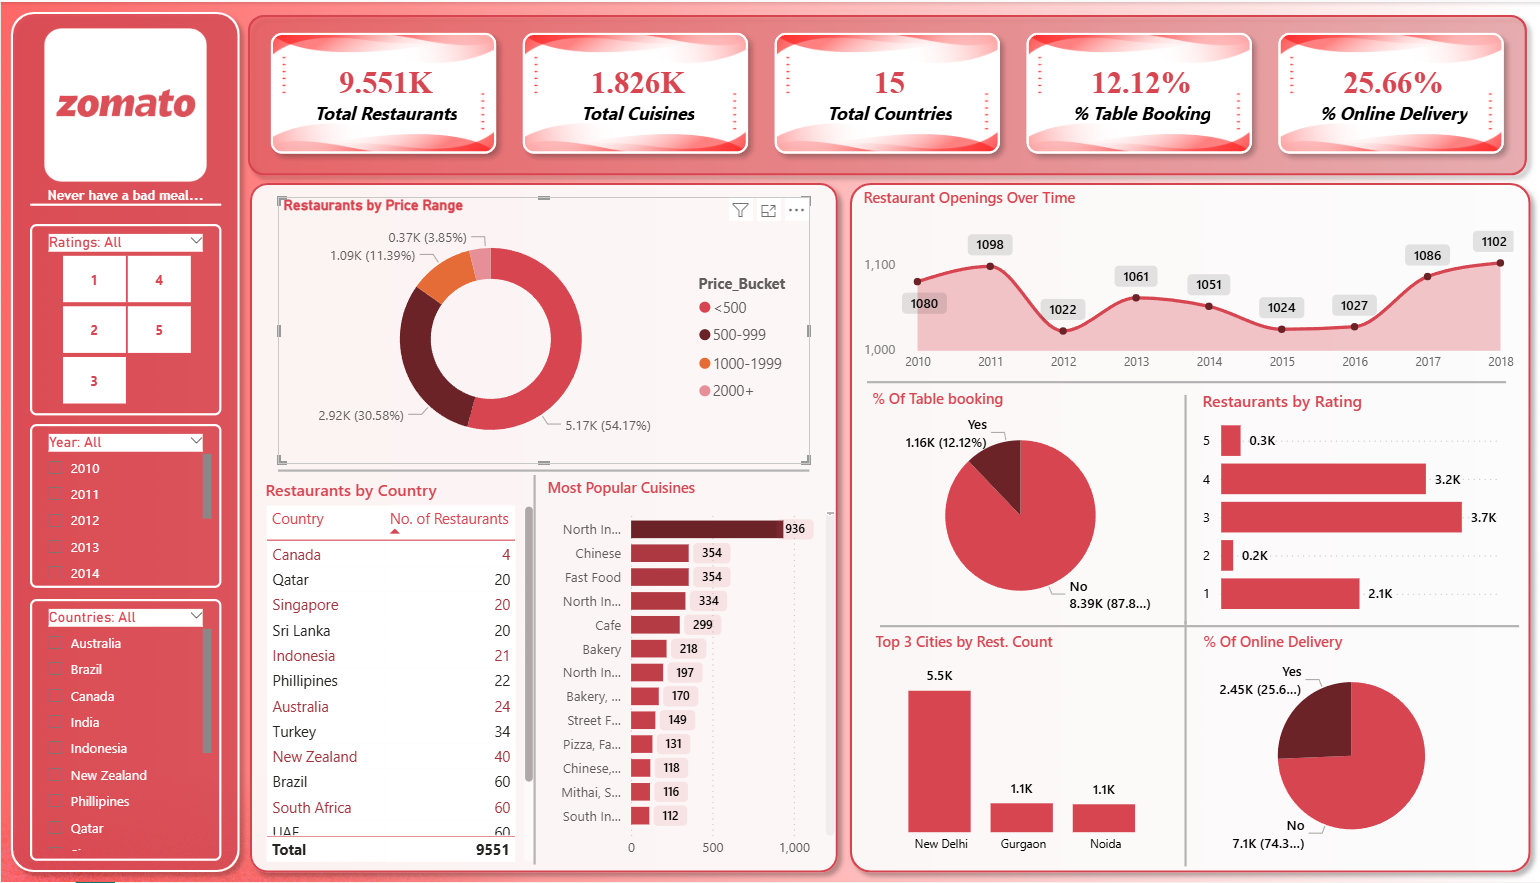

The dashboard page shown, as its layout file describes it:
{"tool":"powerbi","page":{"name":"Page 1","canvas":[1400,800],"ordinal":0},"visuals":[{"type":"shape","box":[763,155,637,645],"z":0},{"type":"shape","box":[217.5,155,552.5,645],"z":1000},{"type":"tableEx","title":"Restaurants by Country","fields":{"Values":["HotelsData.Country","CountNonNull(HotelsData.RestaurantID)"]},"box":[235,433,254,354],"z":2000},{"type":"donutChart","title":"Restaurants by Price Range","fields":{"Category":["HotelsData.Price_Bucket"],"Y":["CountNonNull(HotelsData.RestaurantID)"]},"box":[252,177,483,243],"z":3000},{"type":"barChart","title":"Restaurants by Rating","fields":{"Category":["HotelsData.AVG_Ratings"],"Y":["CountNonNull(HotelsData.RestaurantID)"]},"box":[1087,352,281,213],"z":4000},{"type":"shape","box":[479,430,12,354],"z":5000},{"type":"columnChart","title":"Top 3 Cities by Rest. Count","fields":{"Category":["HotelsData.City"],"Y":["CountNonNull(HotelsData.RestaurantID)"]},"box":[790,573,279,211],"z":6000},{"type":"lineChart","title":"Restaurant Openings Over Time","fields":{"Category":["HotelsData.Datekey_Opening.Variation.Date Hierarchy.Year","HotelsData.Datekey_Opening.Variation.Date Hierarchy.Quarter","HotelsData.Datekey_Opening.Variation.Date Hierarchy.Month"],"Y":["CountNonNull(HotelsData.RestaurantID)"]},"box":[779,169,601,176],"z":7000},{"type":"shape","box":[787,339,581,13],"z":8000},{"type":"barChart","title":"Most Popular Cuisines","fields":{"Category":["HotelsData.Cuisines"],"Y":["CountNonNull(HotelsData.RestaurantID)"]},"box":[492,433,271,354],"z":9000},{"type":"pieChart","title":"% Of Table booking","fields":{"Category":["HotelsData.Has_Table_booking"],"Y":["CountNonNull(HotelsData.RestaurantID)"]},"box":[787,352,279,213],"z":10000},{"type":"shape","box":[799,561,581,13],"z":11000},{"type":"shape","box":[1066,357,21,208],"z":12000},{"type":"shape","box":[215.9,2.9,1180.7,163.9],"z":13000},{"type":"shape","box":[0,0,226,800],"z":14000},{"type":"textbox","box":[26,161,174,31],"z":15000},{"type":"cardVisual","title":"Count of Restaurants by Country","fields":{"Data":["Count(HotelsData.RestaurantID)","Count(HotelsData.Cuisines)","HotelsData.Total Countries","HotelsData.% Table Booking","HotelsData.% Online Delivery"]},"box":[228,11,1157,144],"z":16000},{"type":"image","box":[17.9,3.8,189.6,180.2],"z":17000},{"type":"shape","box":[252,420,483,12],"z":18000},{"type":"shape","box":[1066,563,21,223],"z":19000},{"type":"pieChart","title":"% Of Online Delivery","fields":{"Y":["CountNonNull(HotelsData.RestaurantID)"],"Category":["HotelsData.Has_Online_delivery"]},"box":[1088,573,279,208],"z":20000},{"type":"shape","box":[26,177,174,14],"z":21000},{"type":"slicer","fields":{"Values":["HotelsData.AVG_Ratings"]},"box":[26,202,174,174],"z":22000},{"type":"slicer","fields":{"Values":["Calender1.Year"]},"box":[26,384,174,149],"z":23000},{"type":"slicer","fields":{"Values":["HotelsData.Country"]},"box":[26,543,174,238],"z":24000}]}

Visuals, with their boxes in screenshot pixels (x1, y1, x2, y2), scaled from the page's 1400x800 canvas onto the 1540x883 screenshot:
shape: (left=839, top=171, right=1539, bottom=882)
shape: (left=239, top=171, right=847, bottom=882)
"Restaurants by Country" tableEx: (left=258, top=478, right=538, bottom=869)
"Restaurants by Price Range" donutChart: (left=277, top=195, right=809, bottom=464)
"Restaurants by Rating" barChart: (left=1196, top=389, right=1505, bottom=624)
shape: (left=527, top=475, right=540, bottom=865)
"Top 3 Cities by Rest. Count" columnChart: (left=869, top=632, right=1176, bottom=865)
"Restaurant Openings Over Time" lineChart: (left=857, top=187, right=1518, bottom=381)
shape: (left=866, top=374, right=1505, bottom=389)
"Most Popular Cuisines" barChart: (left=541, top=478, right=839, bottom=869)
"% Of Table booking" pieChart: (left=866, top=389, right=1173, bottom=624)
shape: (left=879, top=619, right=1518, bottom=634)
shape: (left=1173, top=394, right=1196, bottom=624)
shape: (left=237, top=3, right=1536, bottom=184)
shape: (left=0, top=0, right=249, bottom=882)
textbox: (left=29, top=178, right=220, bottom=212)
"Count of Restaurants by Country" cardVisual: (left=251, top=12, right=1524, bottom=171)
image: (left=20, top=4, right=228, bottom=203)
shape: (left=277, top=464, right=809, bottom=477)
shape: (left=1173, top=621, right=1196, bottom=868)
"% Of Online Delivery" pieChart: (left=1197, top=632, right=1504, bottom=862)
shape: (left=29, top=195, right=220, bottom=211)
slicer - HotelsData.AVG_Ratings: (left=29, top=223, right=220, bottom=415)
slicer - Calender1.Year: (left=29, top=424, right=220, bottom=588)
slicer - HotelsData.Country: (left=29, top=599, right=220, bottom=862)
